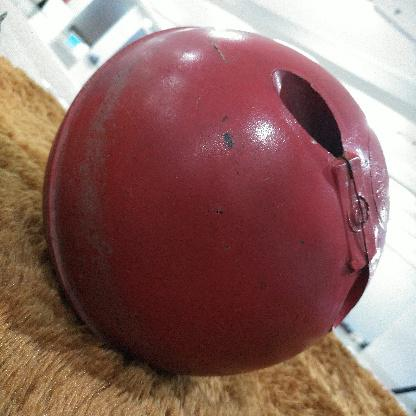red_buoy: (38, 19, 390, 377)
